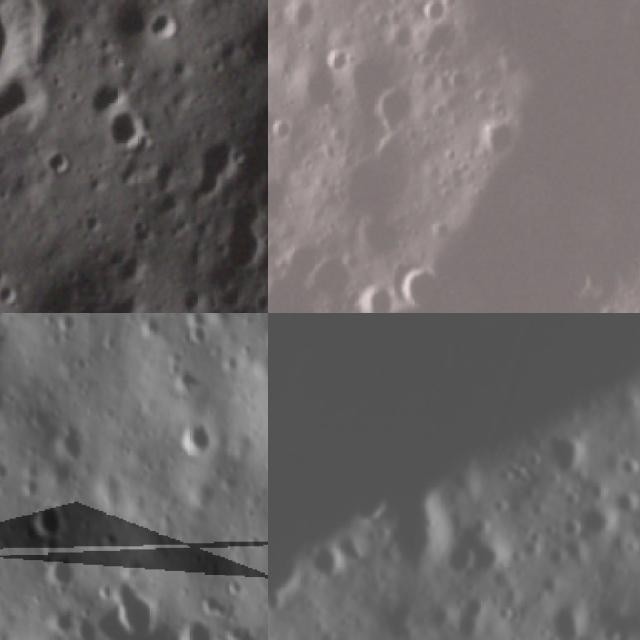crater: (439, 503, 525, 589), (0, 0, 57, 103), (207, 190, 268, 281), (101, 570, 169, 640), (187, 128, 254, 191), (365, 70, 421, 141), (532, 420, 598, 480), (169, 411, 230, 468), (305, 530, 362, 590), (571, 492, 627, 551), (392, 257, 448, 313), (541, 588, 601, 640), (20, 288, 143, 313), (104, 108, 163, 158), (477, 111, 524, 167), (22, 492, 69, 548), (47, 421, 90, 475), (37, 548, 85, 595), (140, 7, 186, 45), (322, 40, 362, 80), (628, 416, 640, 544), (44, 604, 86, 640), (270, 110, 304, 151), (346, 287, 399, 313), (44, 142, 80, 179), (418, 0, 459, 29), (175, 613, 218, 640), (396, 626, 467, 640), (176, 286, 210, 313), (259, 493, 268, 527)
